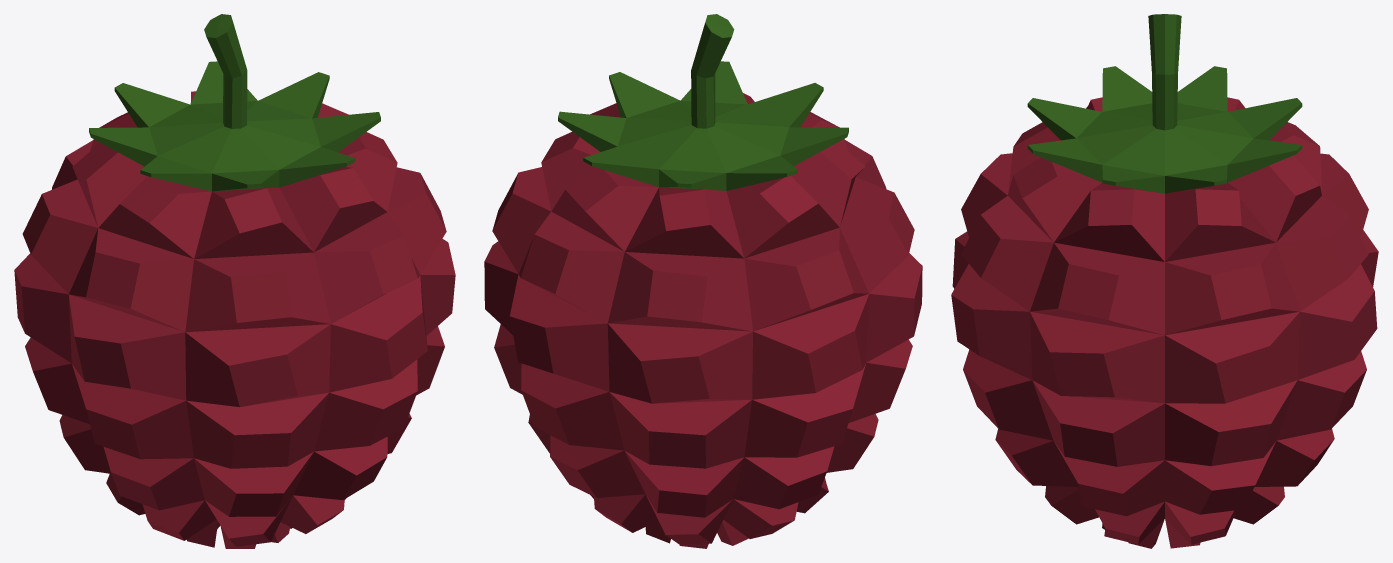
File: Berries.fbx
3 renders of one model, left to right at view 1: azimuth 30°, elevation 25°; view 2: azimuth 150°, elevation 25°; view 3: azimuth 270°, elevation 25°, orthographic.
Visible parts, largest first — view 1: Raspberry; view 2: Raspberry; view 3: Raspberry.
Boxes of the visible parts, x1,y1,x2,y2 form: Raspberry: [14, 14, 455, 548]; Raspberry: [484, 14, 922, 548]; Raspberry: [951, 14, 1378, 548].
Bounding box in the file's own units: 1.24 × 1.64 × 1.24.
